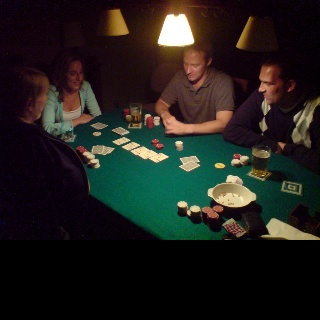without_mask: (258, 66, 287, 104), (183, 49, 206, 80), (64, 60, 83, 90)
